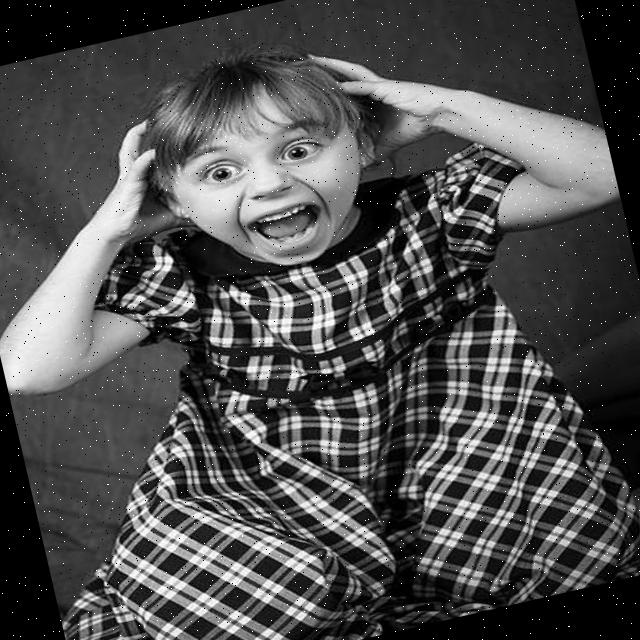Happiness: (166, 86, 380, 286)
